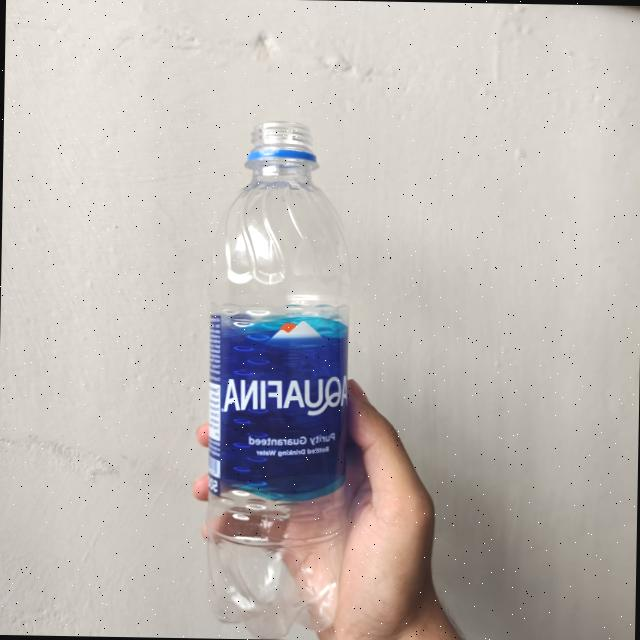bottle: (200, 114, 355, 639)
label: (205, 316, 346, 506)
